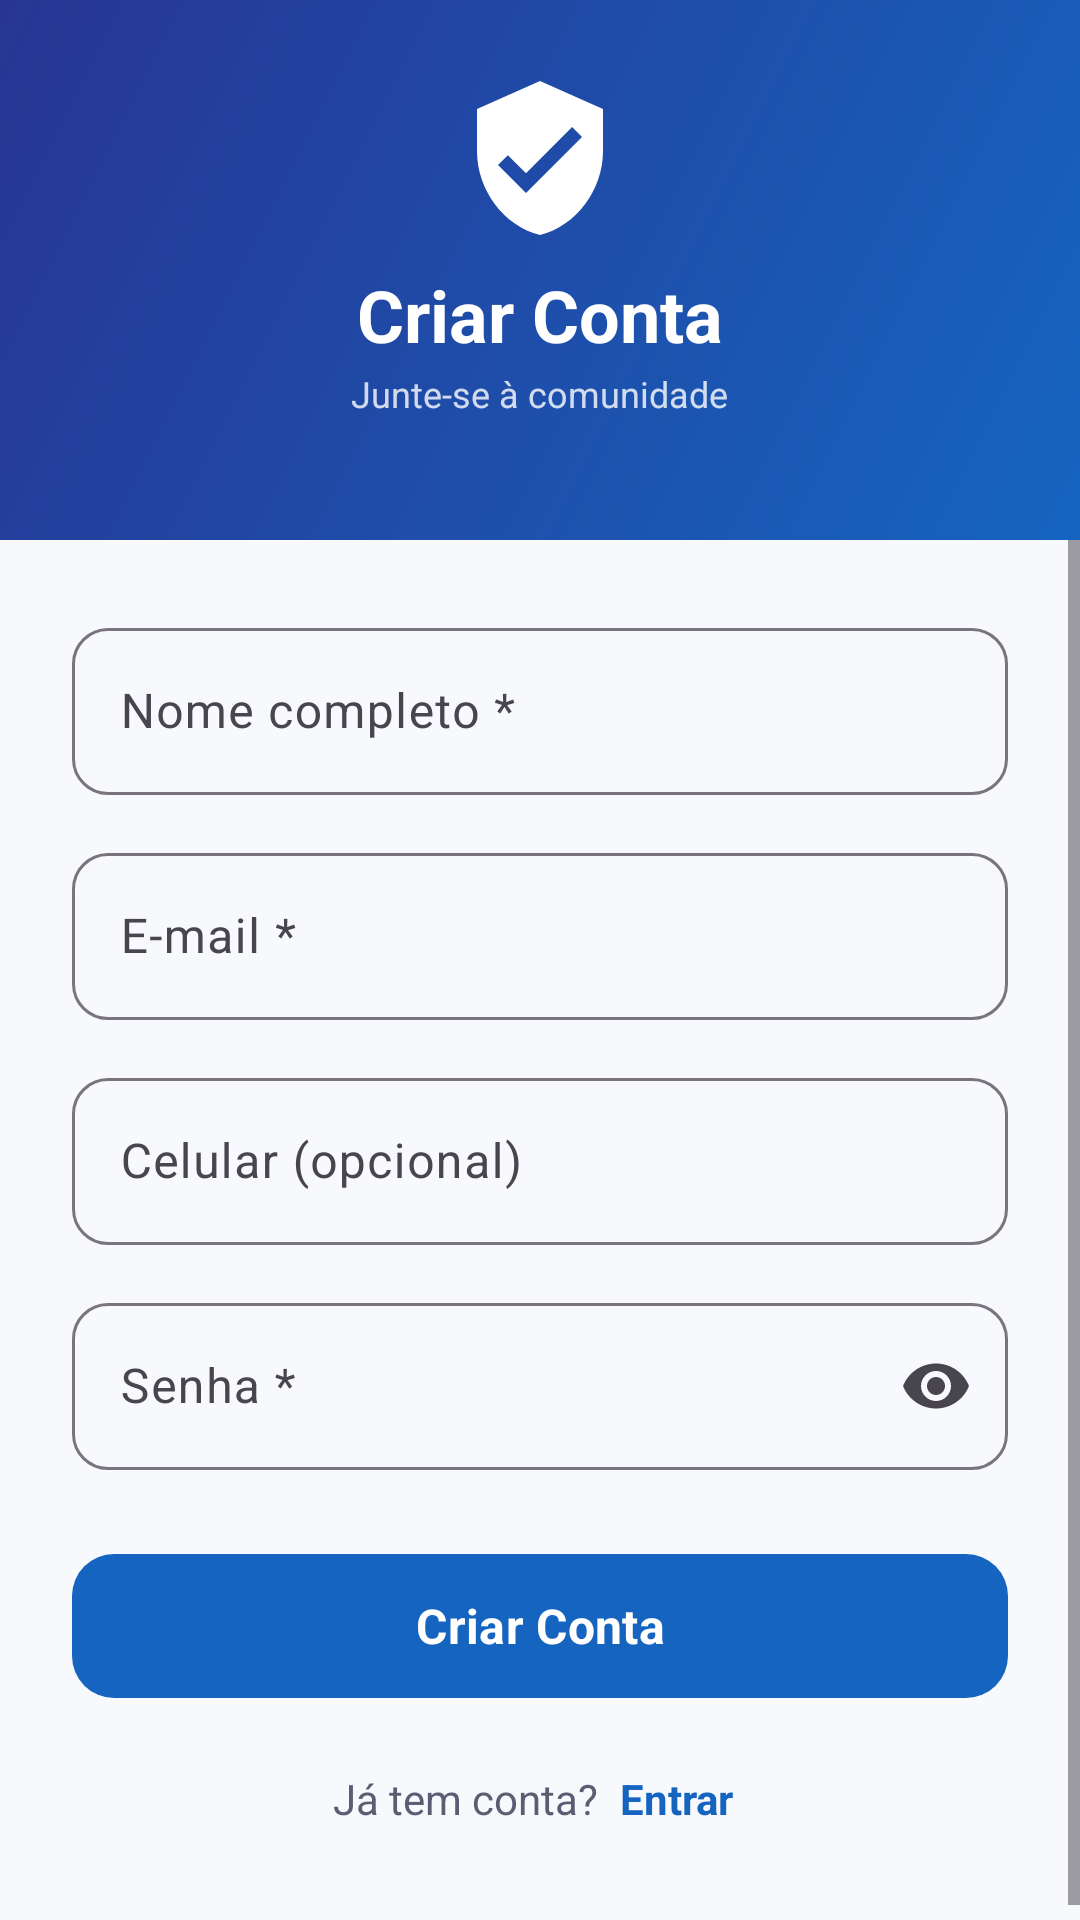

Where to tap for icons on this 1080 x 1920 app screen, as (x,y):
shield: (540,158)
